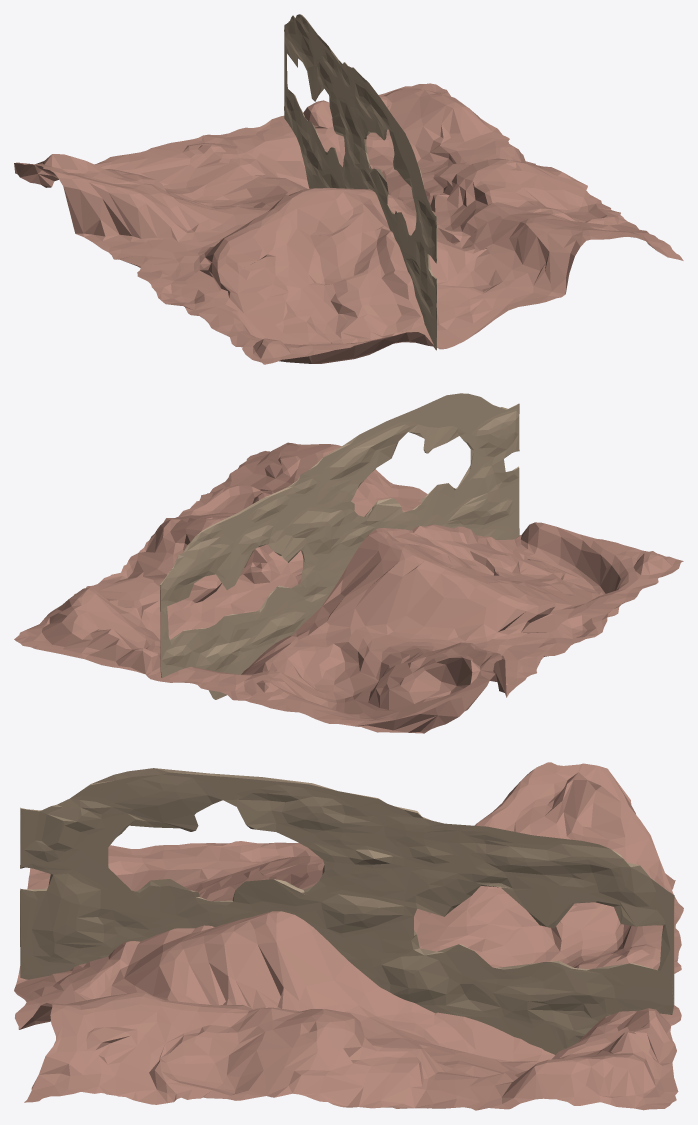
File: desert_for_kangaroo.dae
The picture shows the model from 3 angles, top to bottom: view 1: azimuth 30°, elevation 25°; view 2: azimuth 150°, elevation 25°; view 3: azimuth 270°, elevation 25°; orthographic projection. The views are drawn at different scales.
Visible parts, largest first — view 1: Plane, Cube; view 2: Plane, Cube; view 3: Plane, Cube.
Boxes of the visible parts, x1,y1,x2,y2 form: Plane: (14,83,683,364); Cube: (284,14,436,350); Plane: (14,442,683,733); Cube: (160,393,519,699); Plane: (14,762,683,1110); Cube: (20,768,674,1054).
Bounding box in the file's own units: 14.58 × 14.64 × 6.22.
